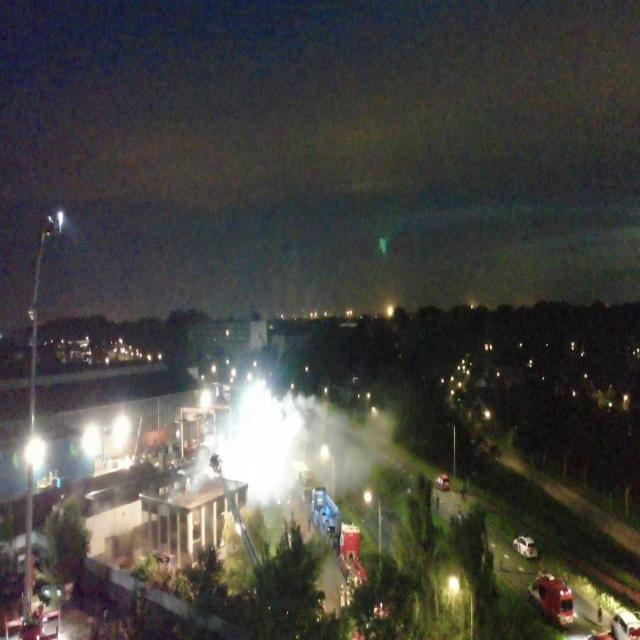Smoke: (196, 382, 397, 505)
